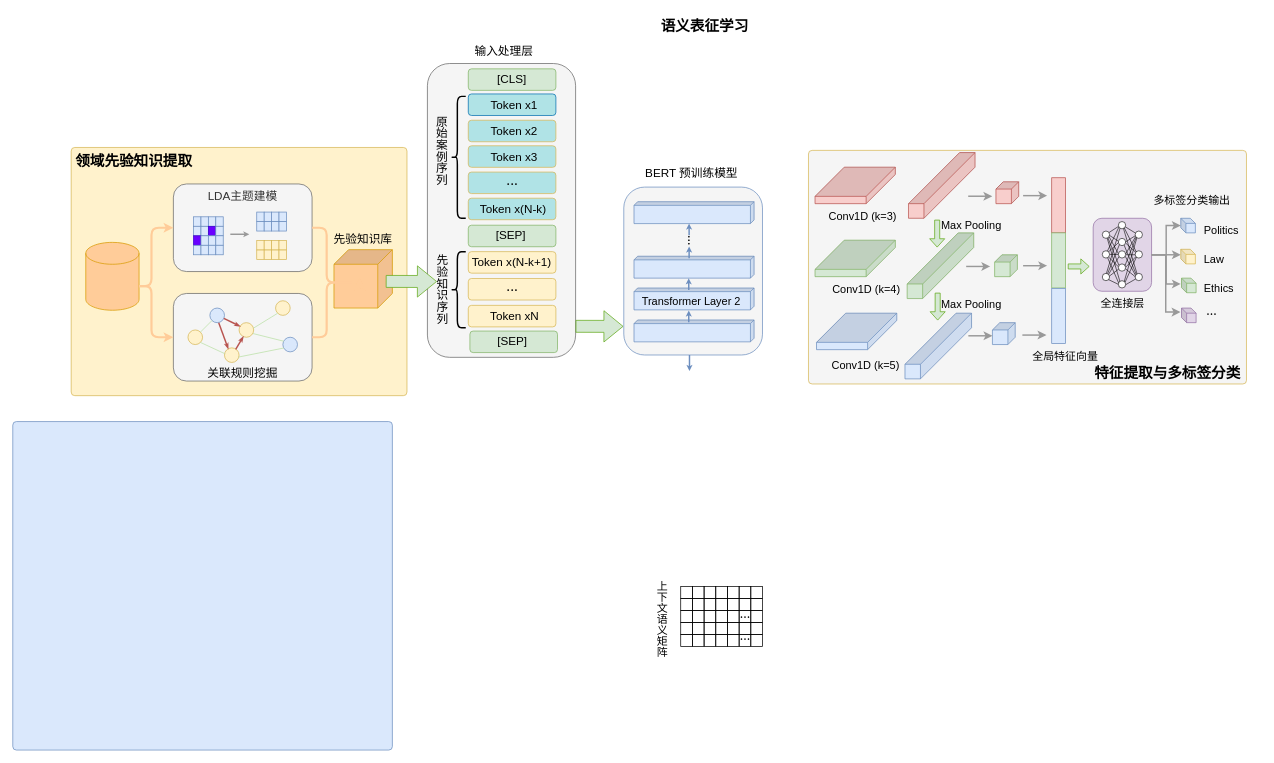
This 1274x763 diagram has some shape labels left out. Here are the shapes that lost their labels. From the top down, the centre of each, then its label:
pixel 693 212: Transformer Layer N
pixel 112 276: 课程思政案例集
pixel 693 267: Transformer Layer 3
pixel 693 330: Transformer Layer 1
